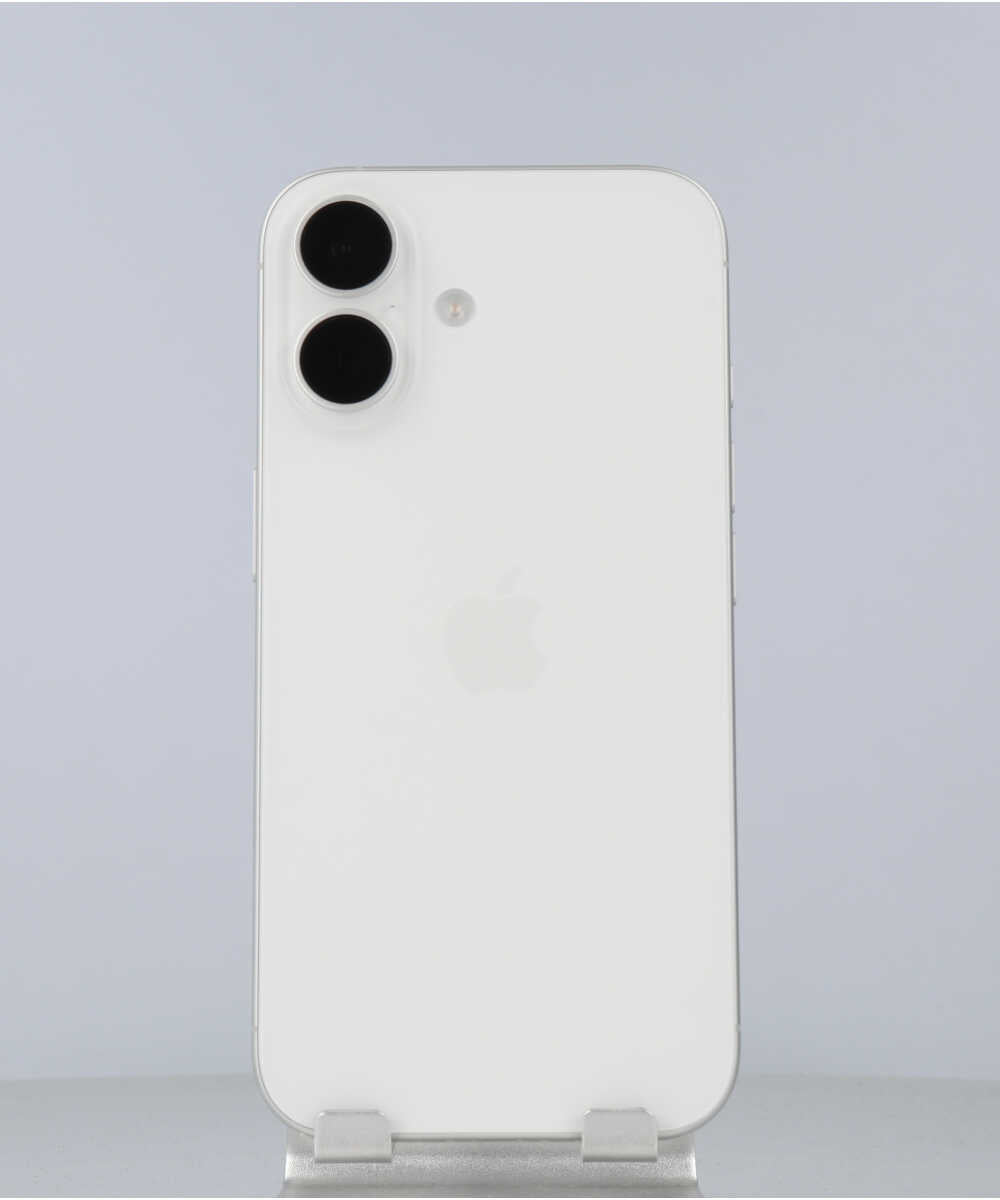iphone16_white: (240, 135, 763, 1147), (263, 185, 499, 421)
